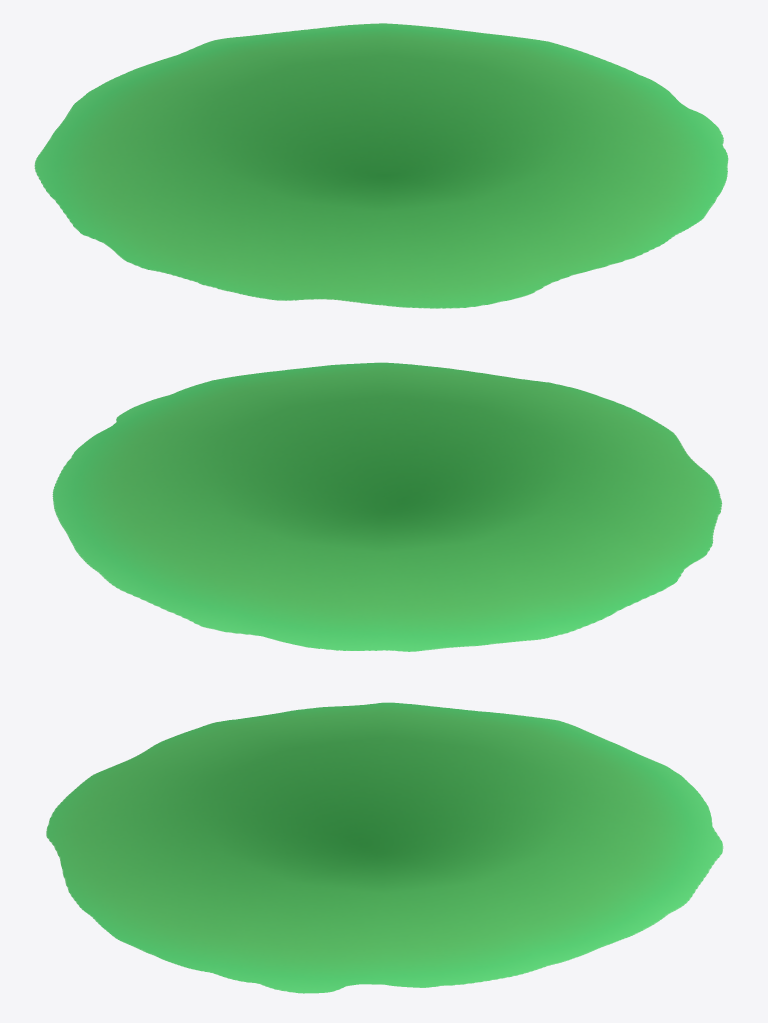
Rendered from SM_Sw_Nenuphar_04.fbx.
The picture shows the model from 3 angles, top to bottom: view 1: azimuth 30°, elevation 25°; view 2: azimuth 150°, elevation 25°; view 3: azimuth 270°, elevation 25°; orthographic projection.
Parts seen in each view (by area): view 1: SM_Sw_Nenuphar_04; view 2: SM_Sw_Nenuphar_04; view 3: SM_Sw_Nenuphar_04.
Part boxes in pixels (<box>): SM_Sw_Nenuphar_04: <box>34,23,728,308</box>; SM_Sw_Nenuphar_04: <box>52,362,722,651</box>; SM_Sw_Nenuphar_04: <box>46,702,723,993</box>.
Size of the model in its own units: 26.09 by 1.43 by 26.09.
